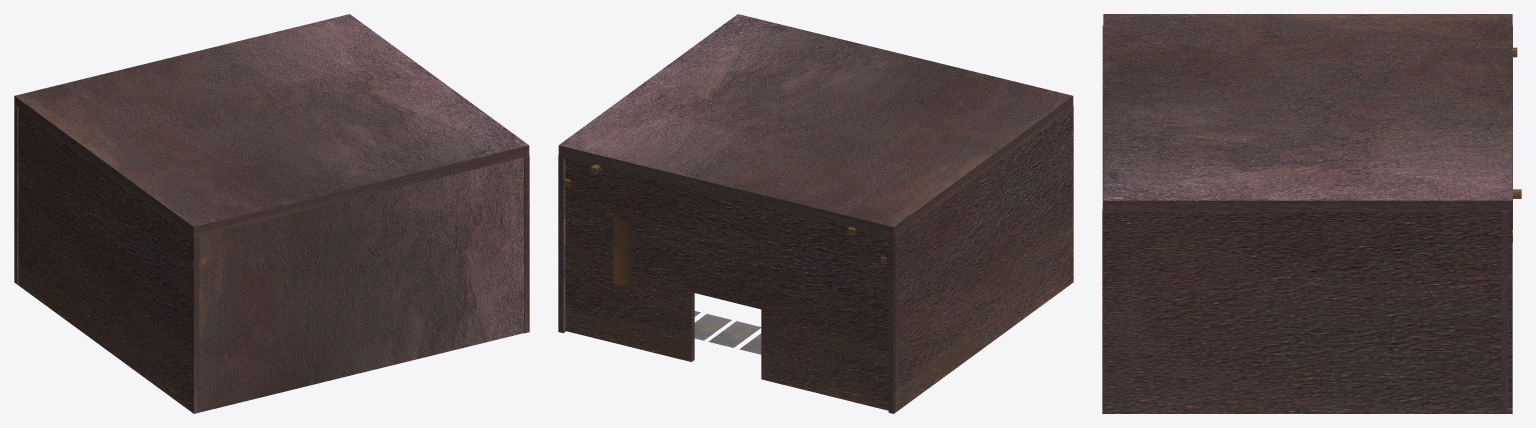
Rendered from room3.fbx.
3 renders of one model, left to right at view 1: azimuth 30°, elevation 25°; view 2: azimuth 150°, elevation 25°; view 3: azimuth 270°, elevation 25°, orthographic. The views are drawn at different scales.
Parts seen in each view (by area): view 1: polySurface21, polySurface51, polySurface22, polySurface16, polySurface15; view 2: polySurface21, polySurface15, polySurface22, polySurface16, pCube19, polySurface19, polySurface33; view 3: polySurface16, polySurface21, polySurface15.
Boxes of the visible parts, x1=… form: polySurface21: x1=14, y1=14, x2=529, y2=237; polySurface51: x1=195, y1=157, x2=523, y2=412; polySurface22: x1=17, y1=110, x2=199, y2=413; polySurface16: x1=524, y1=155, x2=529, y2=333; polySurface15: x1=14, y1=105, x2=18, y2=284; polySurface21: x1=558, y1=14, x2=1073, y2=237; polySurface15: x1=565, y1=158, x2=898, y2=412; polySurface22: x1=888, y1=106, x2=1073, y2=413; polySurface16: x1=558, y1=155, x2=565, y2=333; pCube19: x1=613, y1=216, x2=631, y2=287; polySurface19: x1=708, y1=321, x2=761, y2=347; polySurface33: x1=694, y1=314, x2=731, y2=340; polySurface16: x1=1102, y1=209, x2=1512, y2=413; polySurface21: x1=1103, y1=14, x2=1512, y2=212; polySurface15: x1=1501, y1=211, x2=1508, y2=413.
Bounding box in the file's own units: 13.84 × 7.3 × 13.02.
